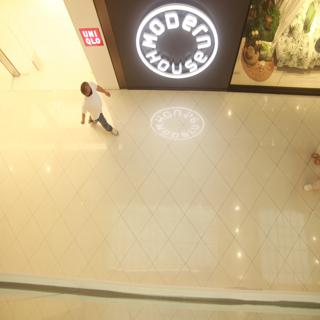person: (74, 74, 120, 138)
